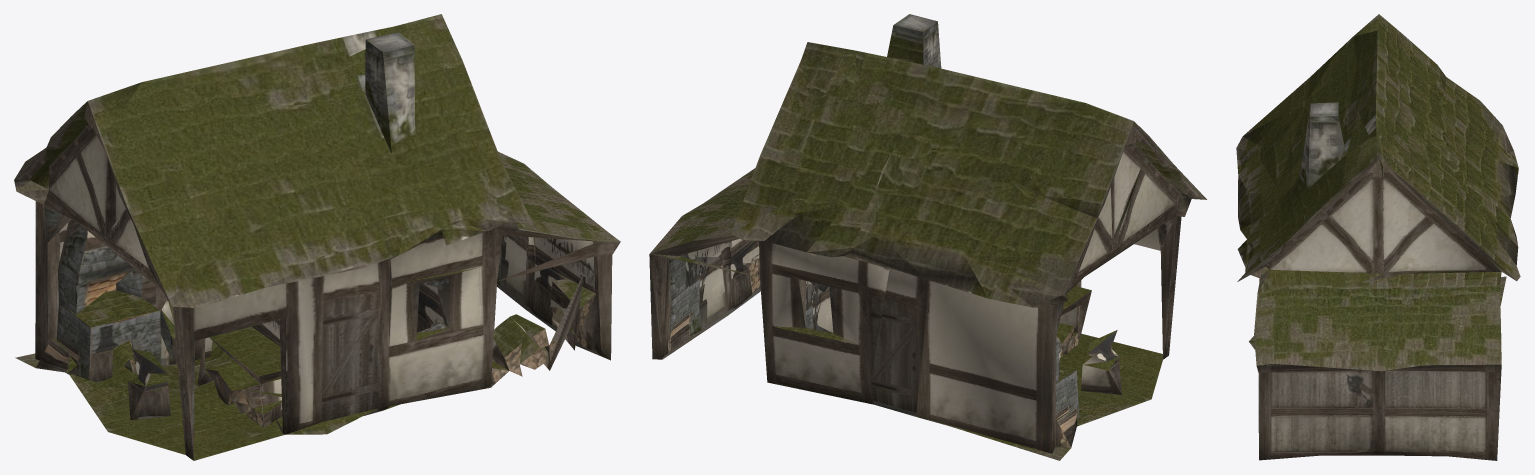
The model's file is FerreiroEldoria-lod1.glb.
3 renders of one model, left to right at view 1: azimuth 30°, elevation 25°; view 2: azimuth 150°, elevation 25°; view 3: azimuth 270°, elevation 25°, orthographic. The views are drawn at different scales.
Visible parts, largest first — view 1: FerreiroEldoria_LOD1; view 2: FerreiroEldoria_LOD1; view 3: FerreiroEldoria_LOD1.
Part boxes in pixels (x1,y1,x2,y2): FerreiroEldoria_LOD1: (14, 14, 620, 460); FerreiroEldoria_LOD1: (649, 14, 1206, 460); FerreiroEldoria_LOD1: (1236, 14, 1520, 460).
Size of the model in its own units: 1.88 by 1.29 by 1.19.
1 material, 1 textured.
